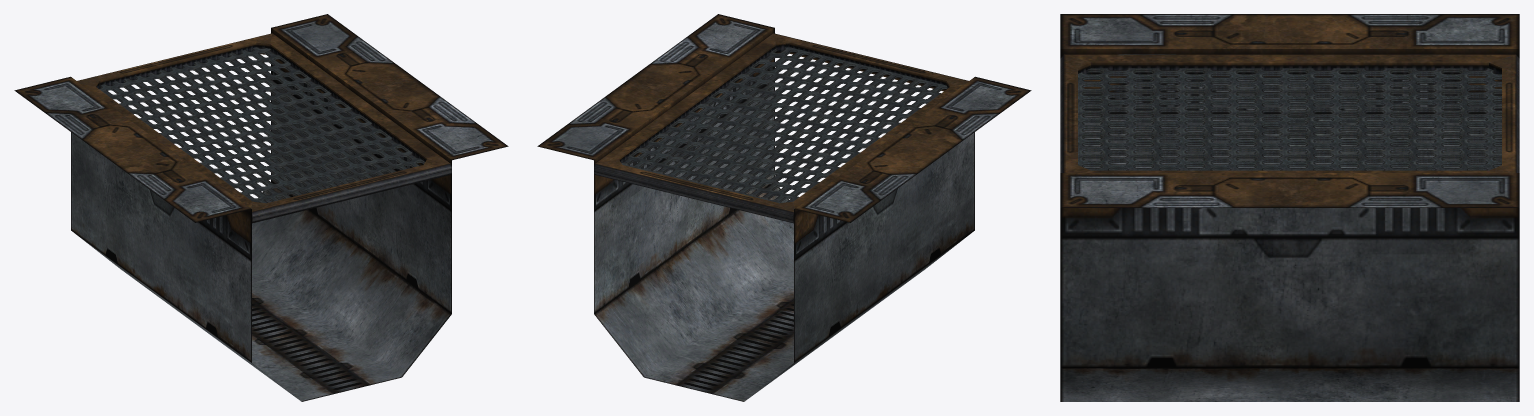
The model's file is tunnel_straight_metal.dae.
3 views of the same model, side by side, from view 1: azimuth 30°, elevation 25°; view 2: azimuth 150°, elevation 25°; view 3: azimuth 270°, elevation 25° (orthographic). The views are drawn at different scales.
Parts seen in each view (by area): view 1: polySurface9, pPlane6, pPlane13; view 2: polySurface9, pPlane6, pPlane13; view 3: polySurface9, pPlane6, pPlane13.
Part boxes in pixels (x1,y1,x2,y2): polySurface9: [14, 14, 508, 401]; pPlane6: [98, 47, 424, 203]; pPlane13: [100, 49, 424, 202]; polySurface9: [537, 14, 1031, 401]; pPlane6: [621, 47, 947, 203]; pPlane13: [628, 50, 947, 201]; polySurface9: [1060, 14, 1519, 401]; pPlane6: [1078, 68, 1501, 170]; pPlane13: [1083, 70, 1501, 170].
Bounding box in the file's own units: 2 × 1.25 × 2.
